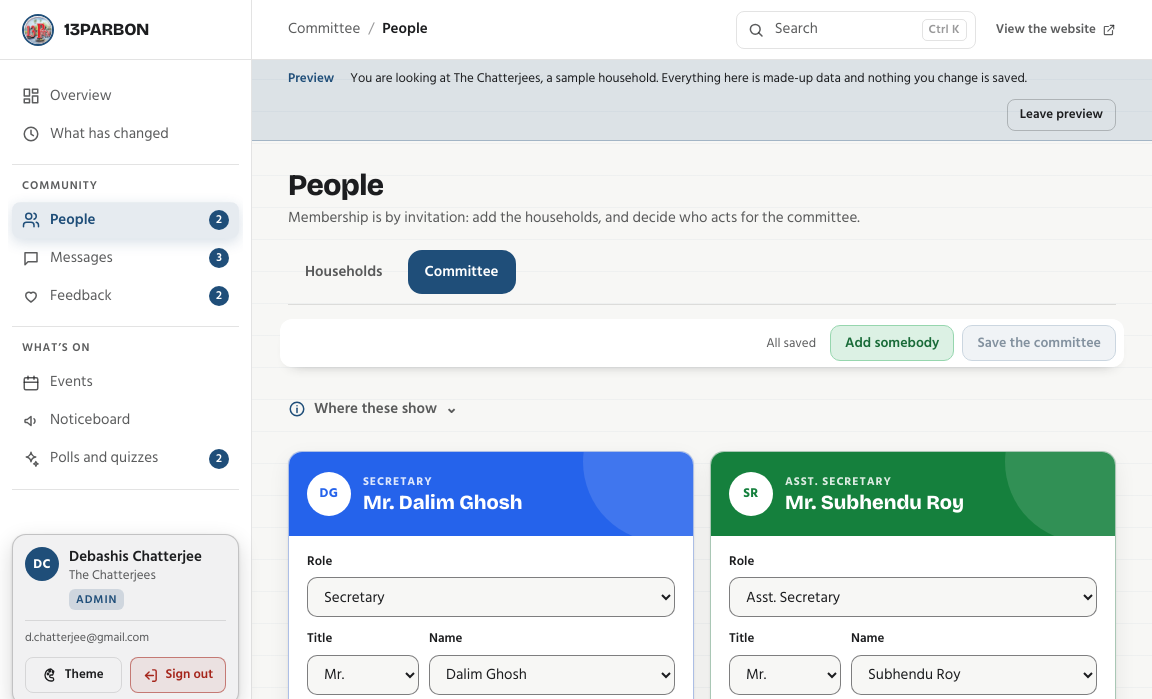
the committee, on People › takes a role that is not on the list
Select "Another role…" in the dropdown named "Role 1" at (491, 597), box top-left (307, 577), bottom-right (675, 617)
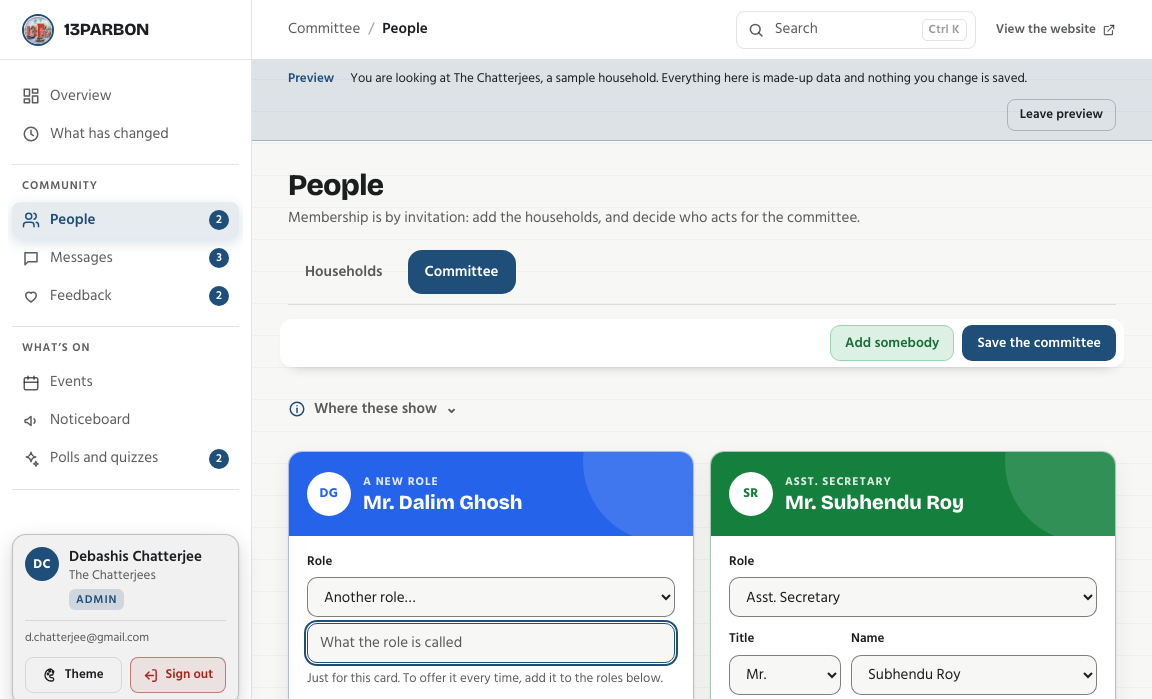
Type "Youth Lead" into the field named "Role 1, in your words" at (491, 643), box top-left (307, 623), bottom-right (675, 663)
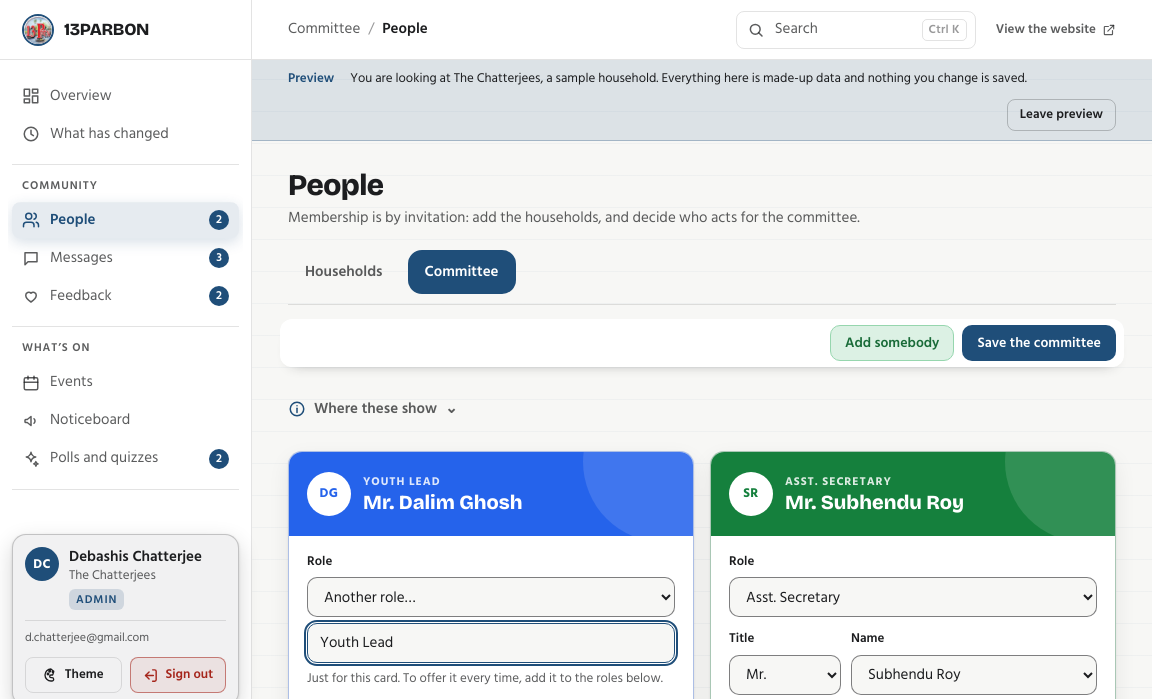
expect the button "Save the committee" is enabled: met, box top-left (962, 325), bottom-right (1116, 361)
expect the text "Youth Lead" is shown: met, box top-left (363, 472), bottom-right (440, 491)
